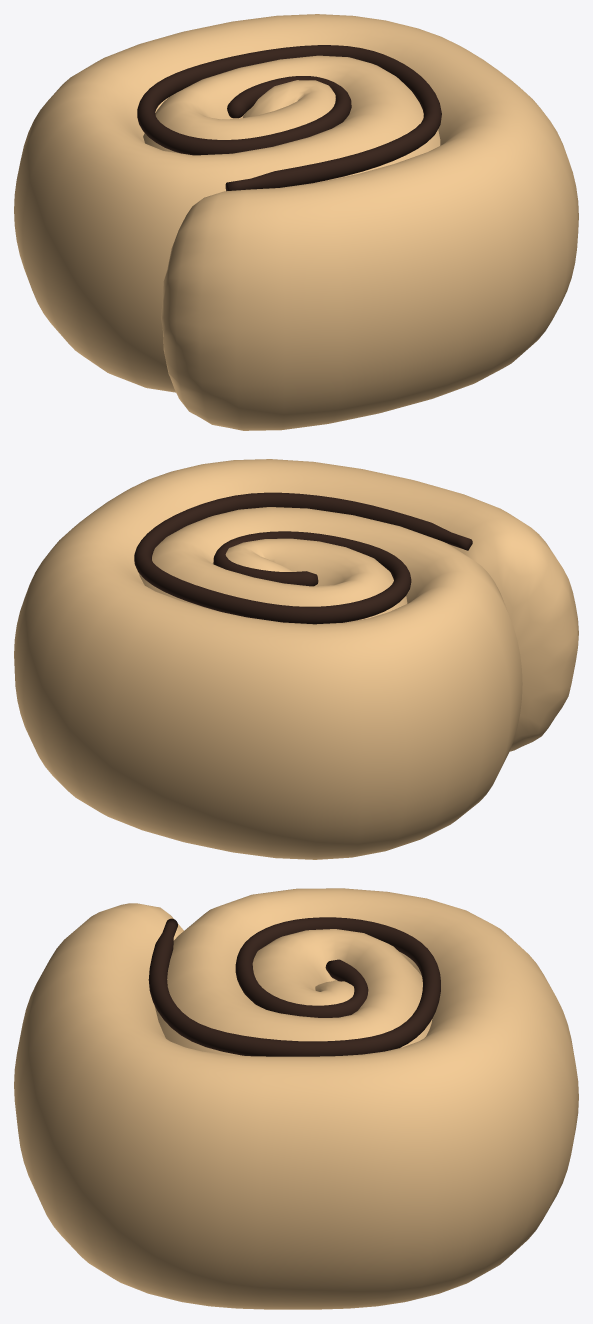
The model's file is PastelitoCanela.fbx.
The picture shows the model from 3 angles, top to bottom: view 1: azimuth 30°, elevation 25°; view 2: azimuth 150°, elevation 25°; view 3: azimuth 270°, elevation 25°; orthographic projection. The views are drawn at different scales.
Visible parts, largest first — view 1: BezierCurve; view 2: BezierCurve; view 3: BezierCurve.
Part boxes in pixels (left/top/right/bottom): BezierCurve: left=14, top=14, right=578, bottom=430; BezierCurve: left=14, top=459, right=578, bottom=859; BezierCurve: left=14, top=888, right=578, bottom=1309.
Size of the model in its own units: 106 by 51.04 by 108.
